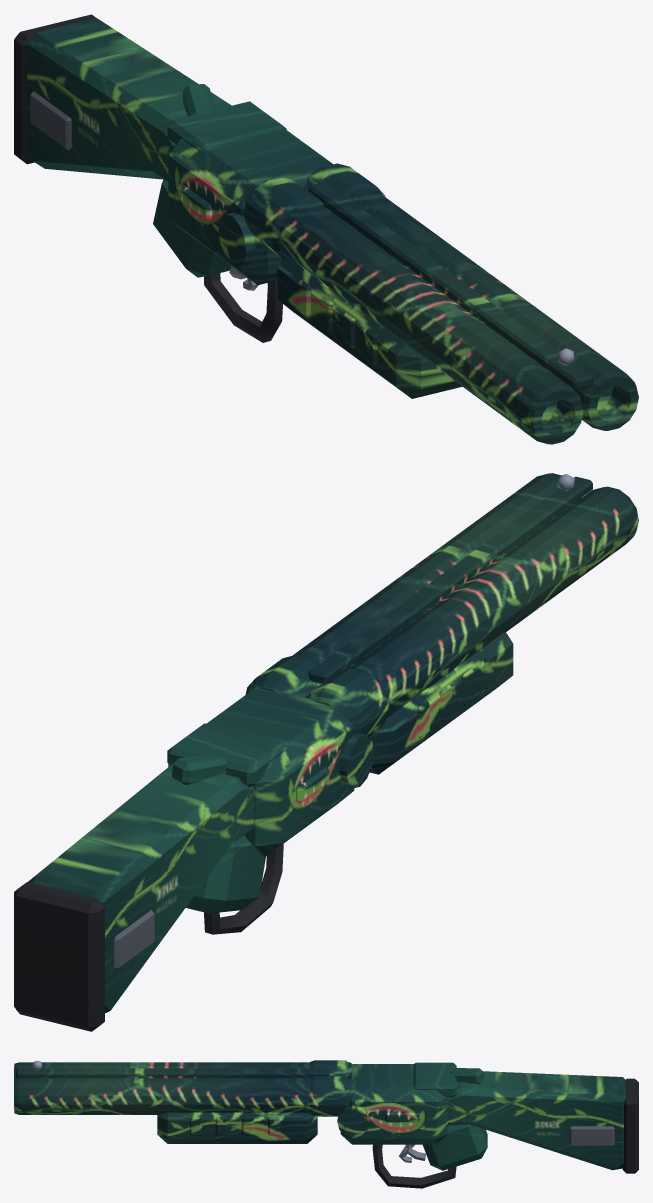
File: Double_Flytrap.glb
3 views of the same model, one above another, from view 1: azimuth 30°, elevation 25°; view 2: azimuth 150°, elevation 25°; view 3: azimuth 270°, elevation 25° (orthographic). The views are drawn at different scales.
Visible parts, largest first — view 1: Main, Barrels, Foregrip; view 2: Main, Barrels, Foregrip; view 3: Main, Barrels, Foregrip.
Boxes of the visible parts, bbox=[...] form: Main: bbox=[14, 14, 332, 342]; Barrels: bbox=[243, 163, 638, 444]; Foregrip: bbox=[277, 256, 462, 398]; Main: bbox=[14, 687, 373, 1031]; Barrels: bbox=[245, 473, 638, 736]; Foregrip: bbox=[369, 632, 513, 774]; Main: bbox=[337, 1062, 638, 1188]; Barrels: bbox=[14, 1060, 354, 1116]; Foregrip: bbox=[157, 1112, 317, 1143].
Size of the model in its own units: 0.558 by 0.904 by 4.03.
2 materials, 1 textured.
